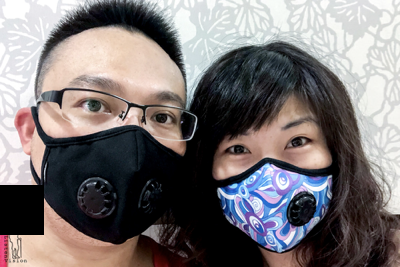with_mask: (37, 74, 188, 247), (210, 114, 336, 255)
